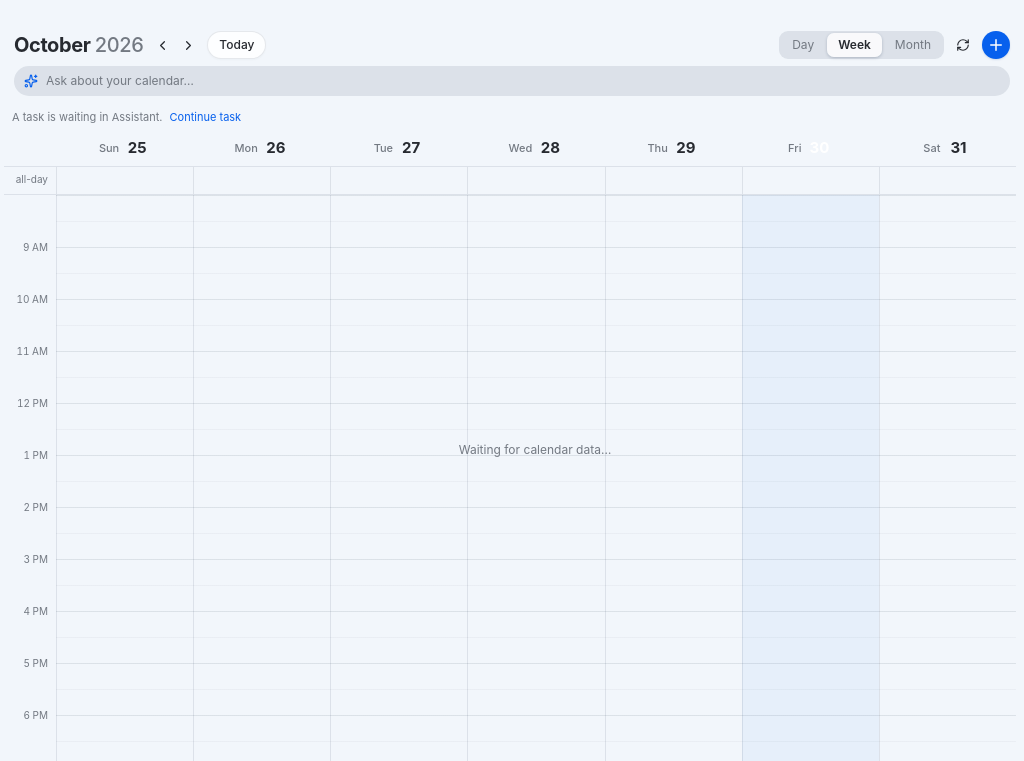
Test: keeps Ask paused during an existing approval but still allows adding an event directly
Check: the button named "New event" is enabled, box [982,31,1010,59]
In the field named "Ask Calshot about your calendar": (523, 81) [46,72,1000,90], type "Add another event"
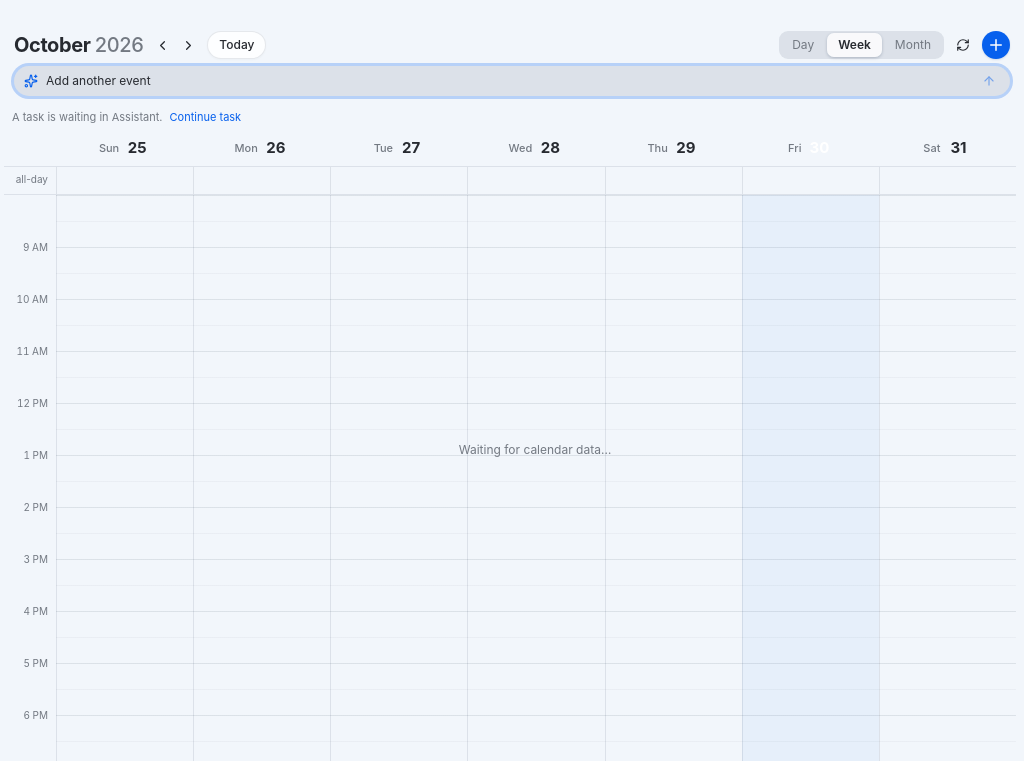
Check: the button named "Send calendar question" is disabled, box [978,67,1000,95]
